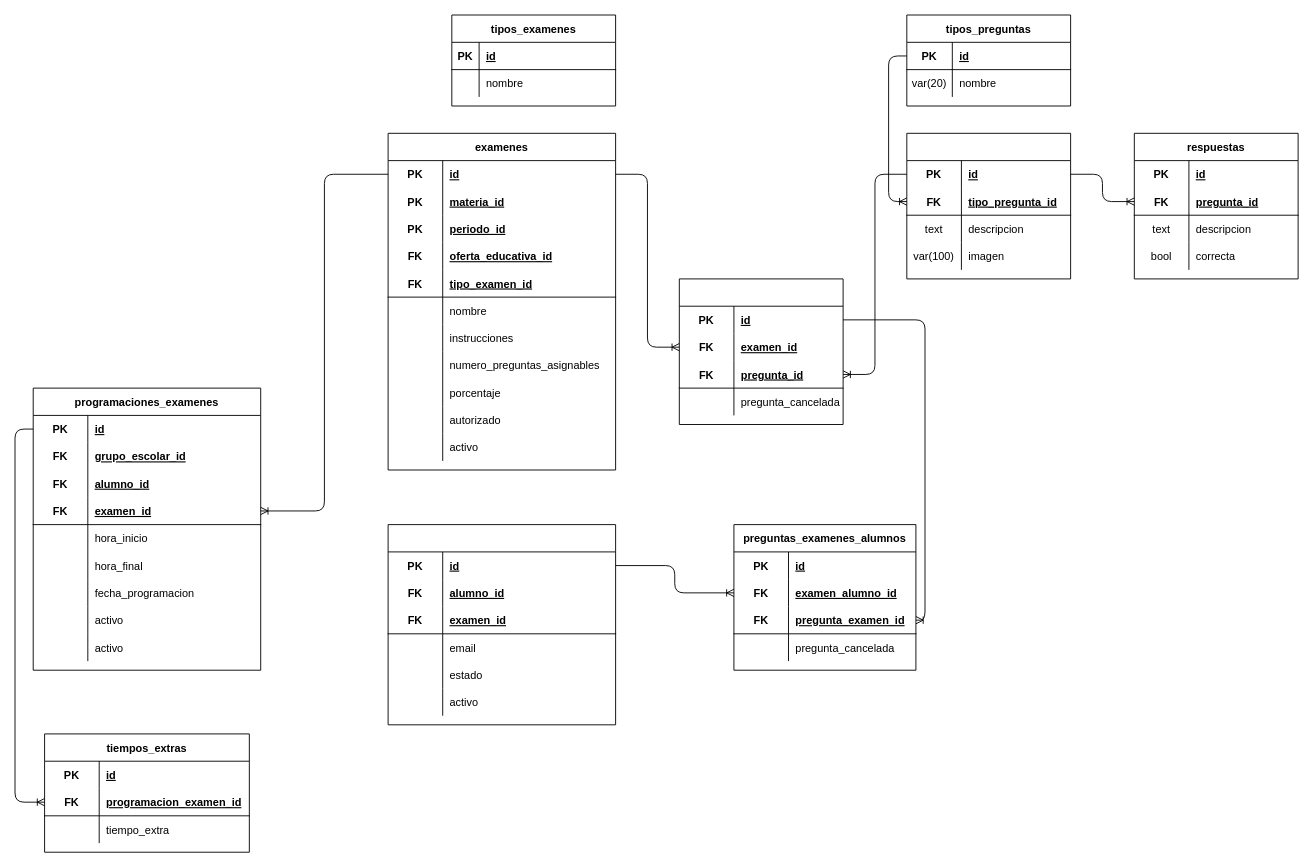
The diagram is 1313 pixels wide and 867 high, and some of its shapes have lost their labels. The box of each missing label's shape, as (x1, y1, x2, y2) in pixels:
examenes_alumnos: (387, 524, 616, 725)
preguntas: (906, 132, 1071, 279)
preguntas_examenes: (678, 278, 843, 425)
